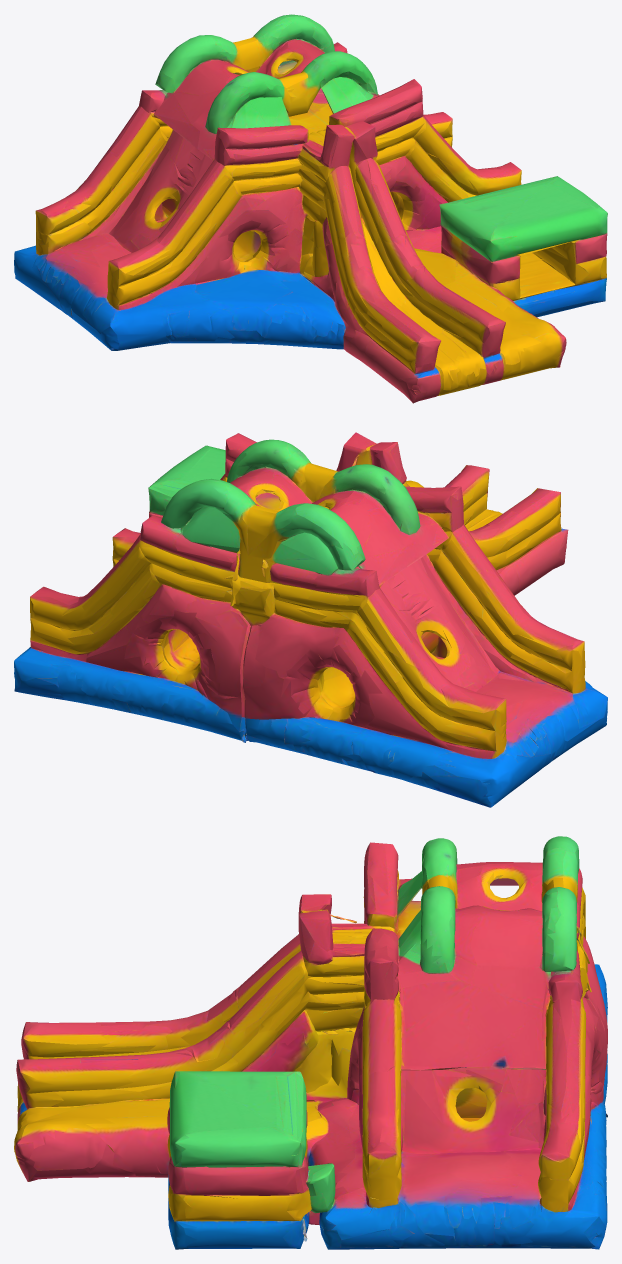
File: megatobogan-v2.glb
The picture shows the model from 3 angles, top to bottom: view 1: azimuth 30°, elevation 25°; view 2: azimuth 150°, elevation 25°; view 3: azimuth 270°, elevation 25°; orthographic projection. The views are drawn at different scales.
Visible parts, largest first — view 1: Mesh_0; view 2: Mesh_0; view 3: Mesh_0.
Boxes of the visible parts, x1=… form: Mesh_0: x1=14, y1=14, x2=607, y2=403; Mesh_0: x1=14, y1=432, x2=607, y2=807; Mesh_0: x1=14, y1=836, x2=607, y2=1249.
Bounding box in the file's own units: 7.5 × 3.5 × 7.2.
1 material, 1 textured.
